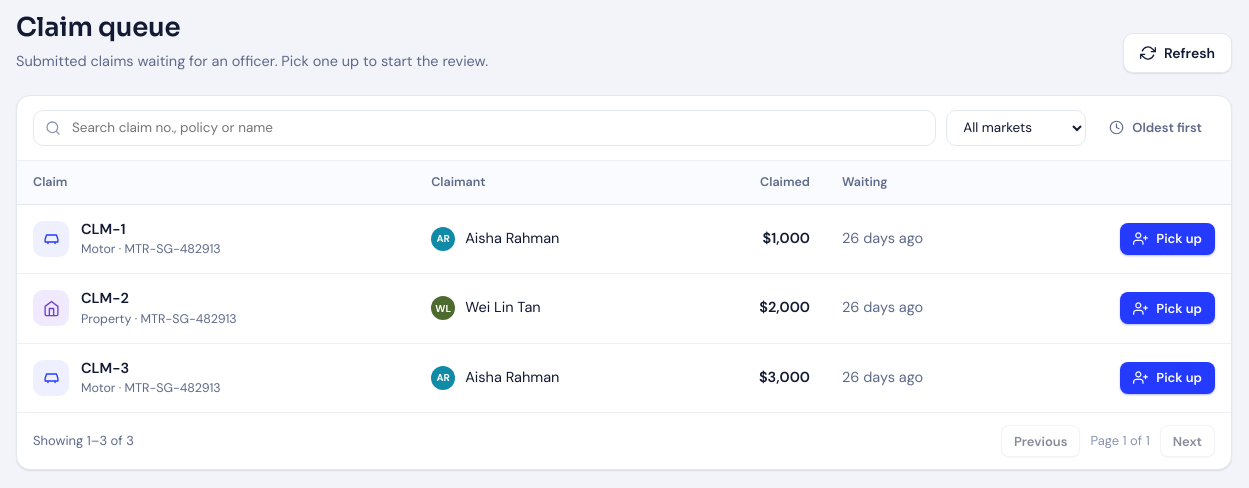
Test: ClaimsListComponent › "Claim queue" mode (officer) › disables the button while the pick-up is in flight
Click the button "Pick up" in the row of "CLM-1".
click(1168, 239)  # box [1120,223,1215,255]
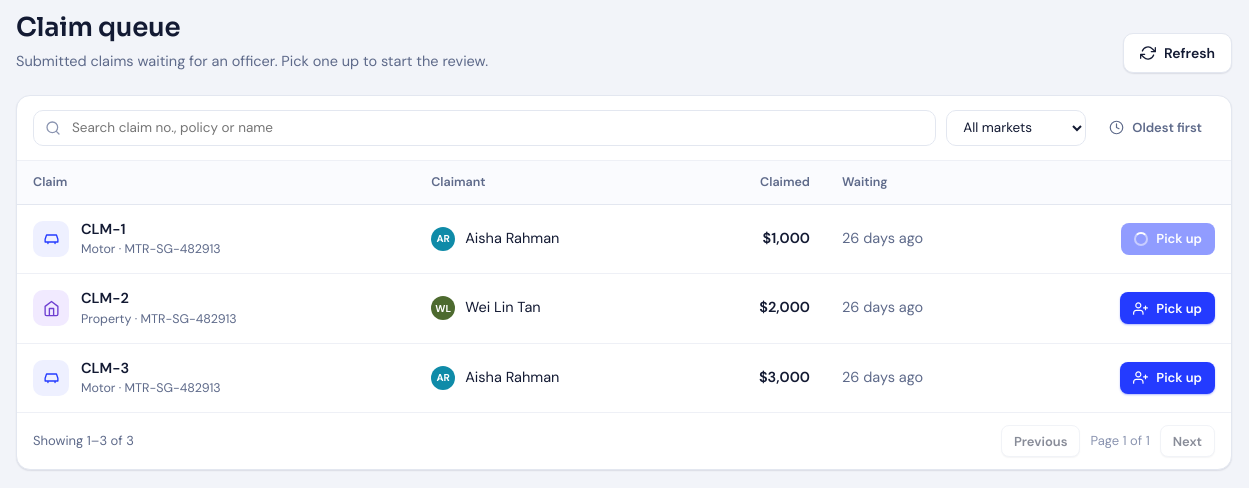
Expected: the button "Pick up" in the row of "CLM-1" is disabled, [1121,223,1215,255]
Expected: the element with class "spin" is shown, [1134,232,1148,246]
